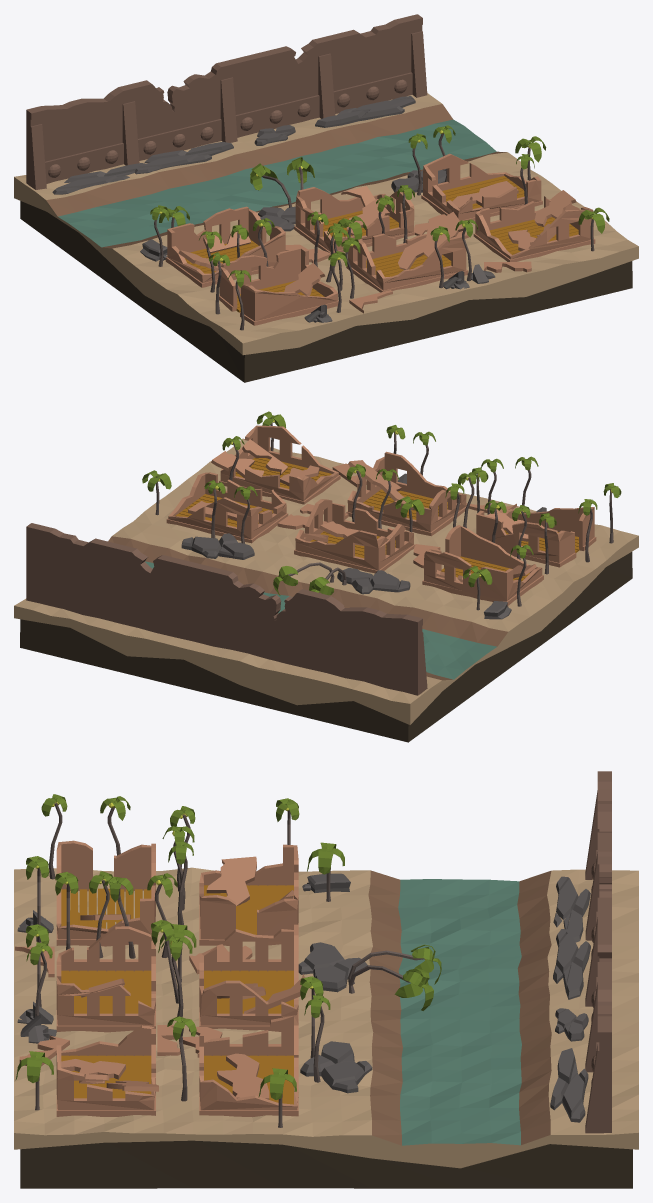
File: 01 Zombie_12.FBX
3 views of the same model, one above another, from view 1: azimuth 30°, elevation 25°; view 2: azimuth 150°, elevation 25°; view 3: azimuth 270°, elevation 25° (orthographic). The views are drawn at different scales.
Parts seen in each view (by area): view 1: Base, House, Wall, Tree, Rock Type4 01 mesh008, Rock Type4 01 mesh007, Rock Type4 01 mesh006, Brocken_wall, Rock Type4 01 mesh, Rock Type4 01 mesh009, Rock Type4 01 mesh005; view 2: Base, House, Wall, Tree, Rock Type4 01 mesh005, Rock Type4 01 mesh, Brocken_wall; view 3: Base, House, Tree, Wall, Rock Type4 01 mesh005, Rock Type4 01 mesh, Rock Type4 01 mesh008, Rock Type4 01 mesh007, Rock Type4 01 mesh006, Brocken_wall, Rock Type4 01 mesh009, Rock Type6 03 mesh (+1 smaller).
Part boxes in pixels (box(x1,y1,x2,y2)): Base: box(14, 93, 638, 382); House: box(165, 153, 595, 325); Wall: box(26, 14, 427, 189); Tree: box(150, 125, 609, 330); Rock Type4 01 mesh008: box(315, 96, 415, 127); Rock Type4 01 mesh007: box(135, 141, 233, 174); Rock Type4 01 mesh006: box(52, 163, 145, 194); Brocken_wall: box(349, 231, 531, 313); Rock Type4 01 mesh: box(258, 206, 295, 232); Rock Type4 01 mesh009: box(254, 125, 295, 145); Rock Type4 01 mesh005: box(391, 169, 446, 192); Base: box(14, 438, 638, 742); House: box(166, 425, 596, 606); Wall: box(26, 523, 427, 695); Tree: box(142, 411, 621, 610); Rock Type4 01 mesh005: box(181, 533, 254, 559); Rock Type4 01 mesh: box(337, 568, 410, 594); Brocken_wall: box(300, 463, 516, 518); Base: box(14, 867, 638, 1188); House: box(56, 840, 304, 1117); Tree: box(15, 794, 441, 1127); Wall: box(585, 771, 611, 1133); Rock Type4 01 mesh005: box(300, 1041, 372, 1093); Rock Type4 01 mesh: box(298, 942, 367, 992); Rock Type4 01 mesh008: box(550, 1048, 588, 1122); Rock Type4 01 mesh007: box(553, 929, 590, 999); Rock Type4 01 mesh006: box(553, 876, 590, 942); Brocken_wall: box(15, 946, 180, 1066); Rock Type4 01 mesh009: box(555, 1008, 588, 1041); Rock Type6 03 mesh: box(302, 873, 350, 892).
Size of the model in its own units: 10061 by 2776 by 9999.
